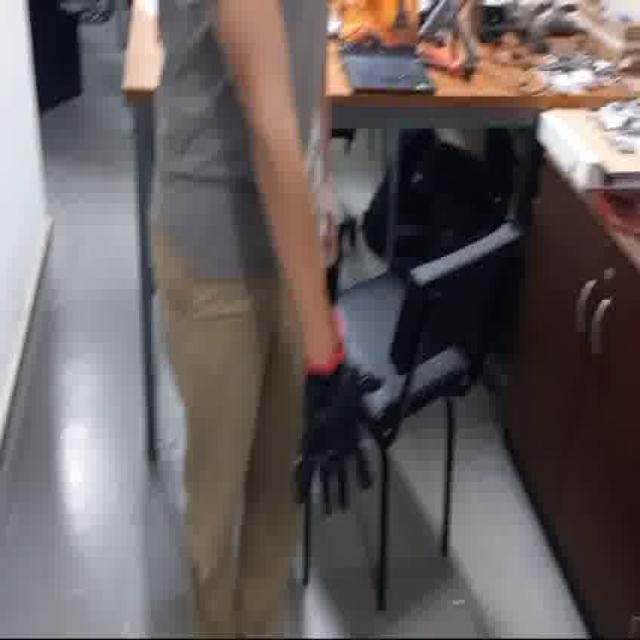Gloves: (293, 340, 384, 521)
